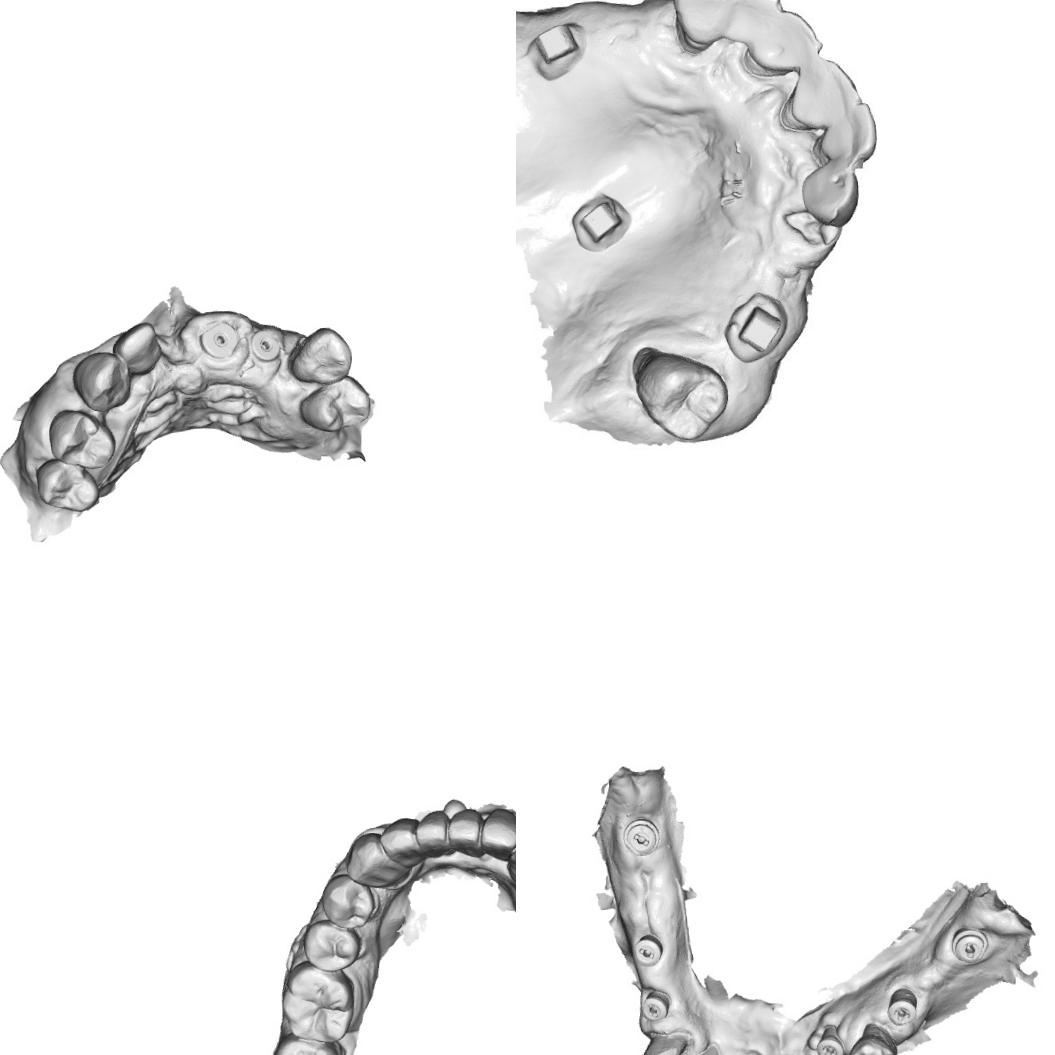canine: (67, 346, 134, 413), (284, 323, 355, 386), (798, 162, 862, 226), (341, 829, 398, 895), (669, 0, 738, 45), (502, 827, 516, 893)
crown: (633, 1032, 687, 1055)
implant: (196, 312, 243, 361), (245, 323, 285, 366)
implant_minus: (620, 815, 664, 858), (948, 924, 991, 966), (630, 933, 664, 968), (638, 988, 671, 1023)
implant_plus: (883, 985, 920, 1027), (813, 1024, 845, 1055), (687, 1046, 722, 1055)
incisor: (781, 58, 860, 122), (747, 11, 821, 74), (108, 319, 166, 379), (823, 110, 878, 162), (412, 806, 453, 863), (730, 0, 781, 44), (476, 805, 516, 859), (443, 808, 484, 860), (378, 815, 421, 864)
molar: (632, 342, 736, 446), (272, 958, 358, 1048), (267, 1030, 349, 1055)
premolar: (294, 372, 374, 435), (46, 404, 116, 473), (31, 454, 100, 516), (318, 869, 379, 931), (300, 917, 364, 974), (839, 1033, 902, 1055)
